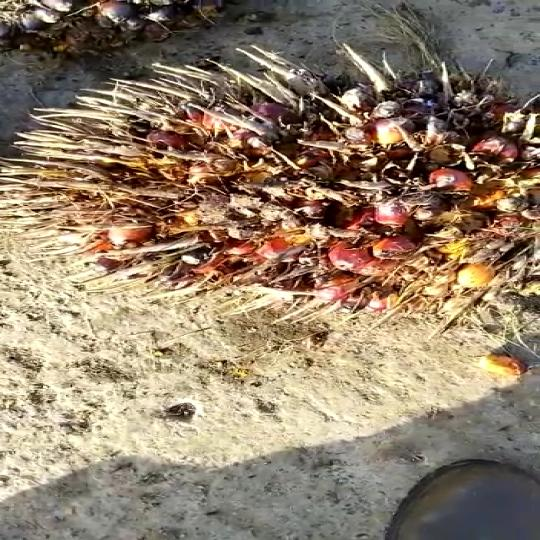terlalu masak: (13, 51, 540, 322)
